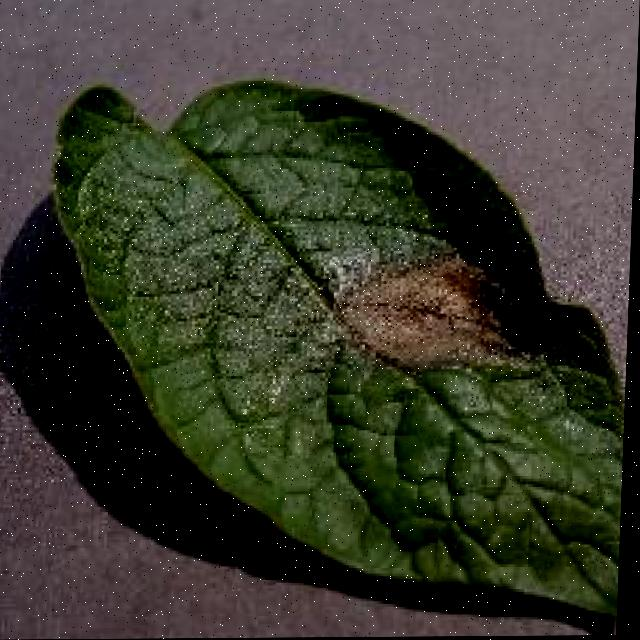Late_blight: (323, 215, 604, 407)
